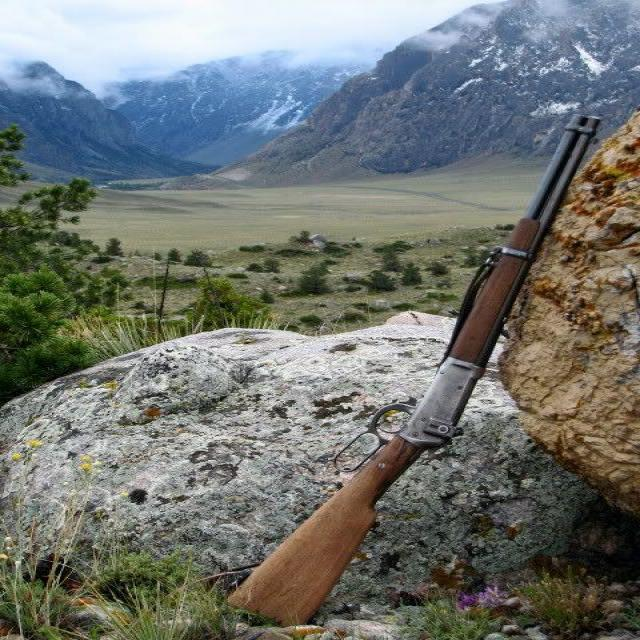shotgun: (214, 101, 618, 634)
